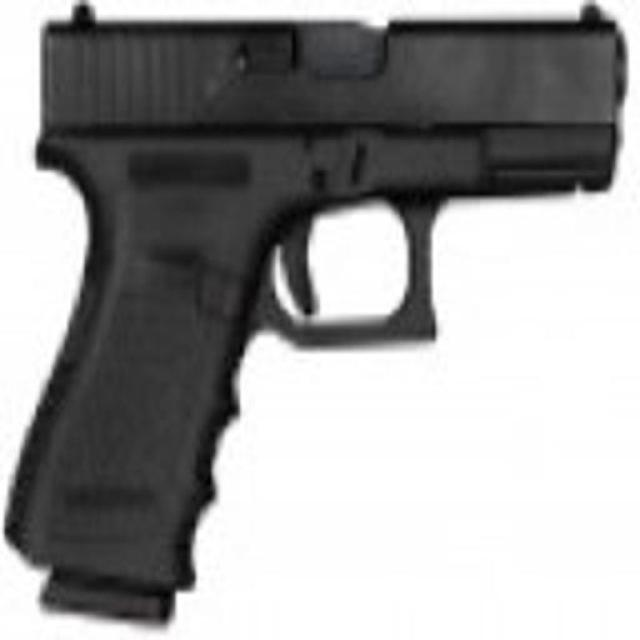pistol: (4, 5, 628, 602)
